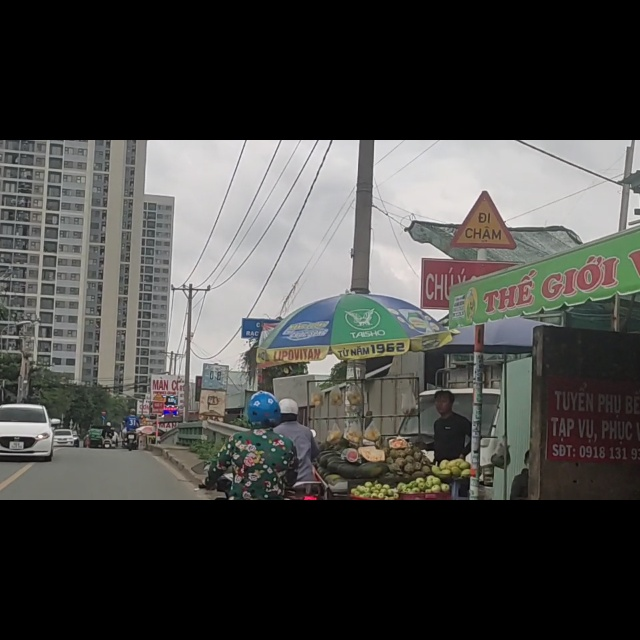bien_nguy_hiem: (451, 88, 514, 192)
